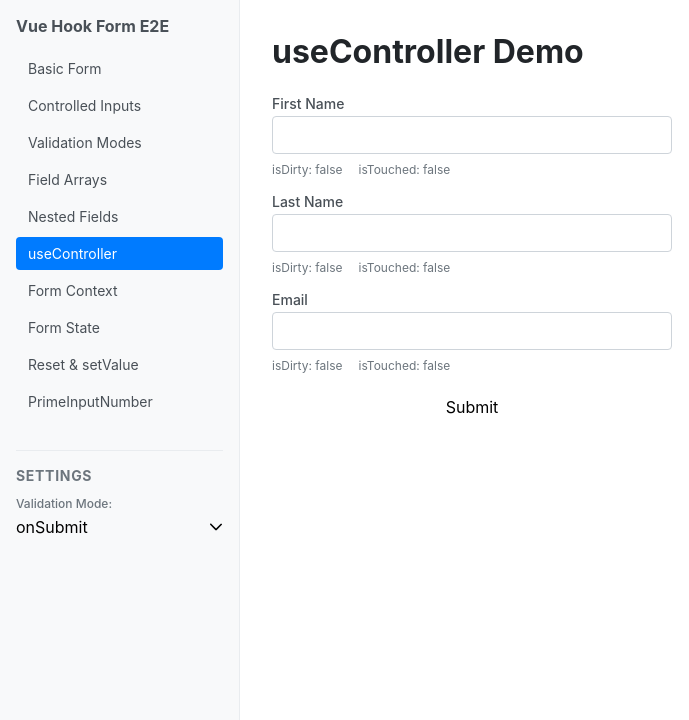
Test case: useController › should track isDirty state correctly
expect the text with test id "firstname-state" reads "isDirty: false": met, box [272, 162, 342, 177]
Type "John" into the field with test id "firstname-input" at (472, 135), box [272, 116, 672, 154]
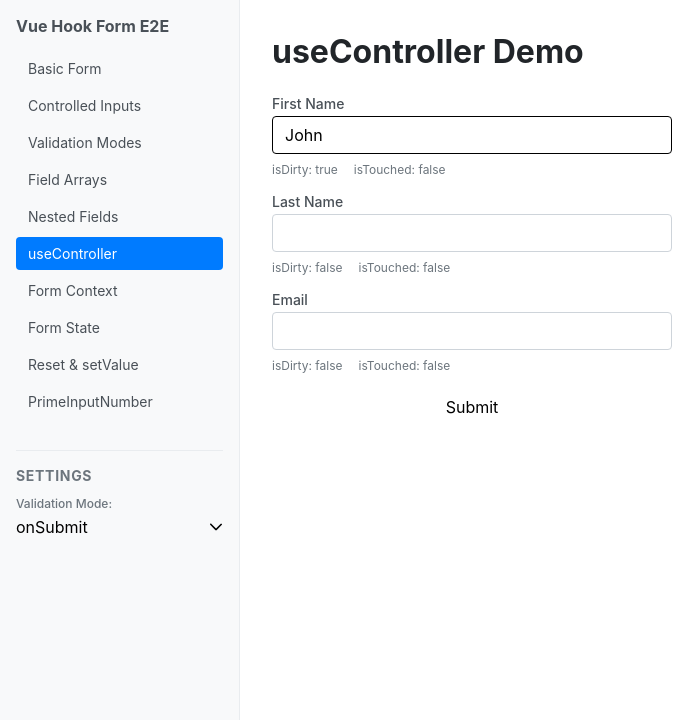
expect the text with test id "firstname-state" reads "isDirty: true": met, box [272, 162, 338, 177]
